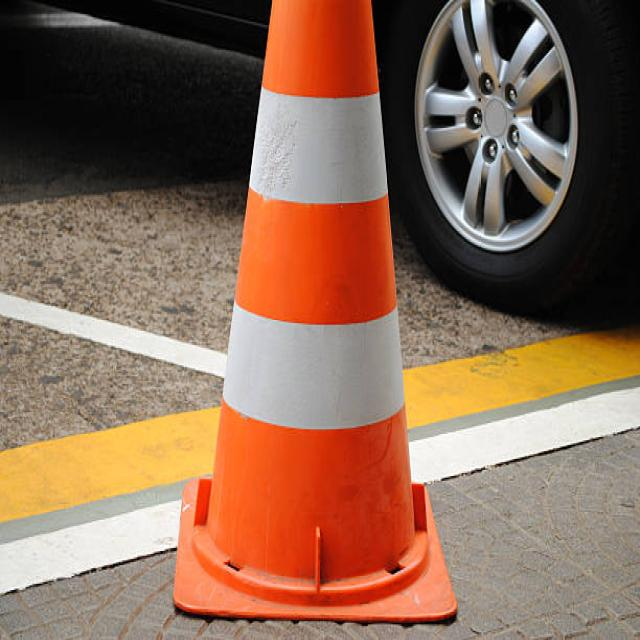Traffic Cone: (168, 0, 484, 633)
